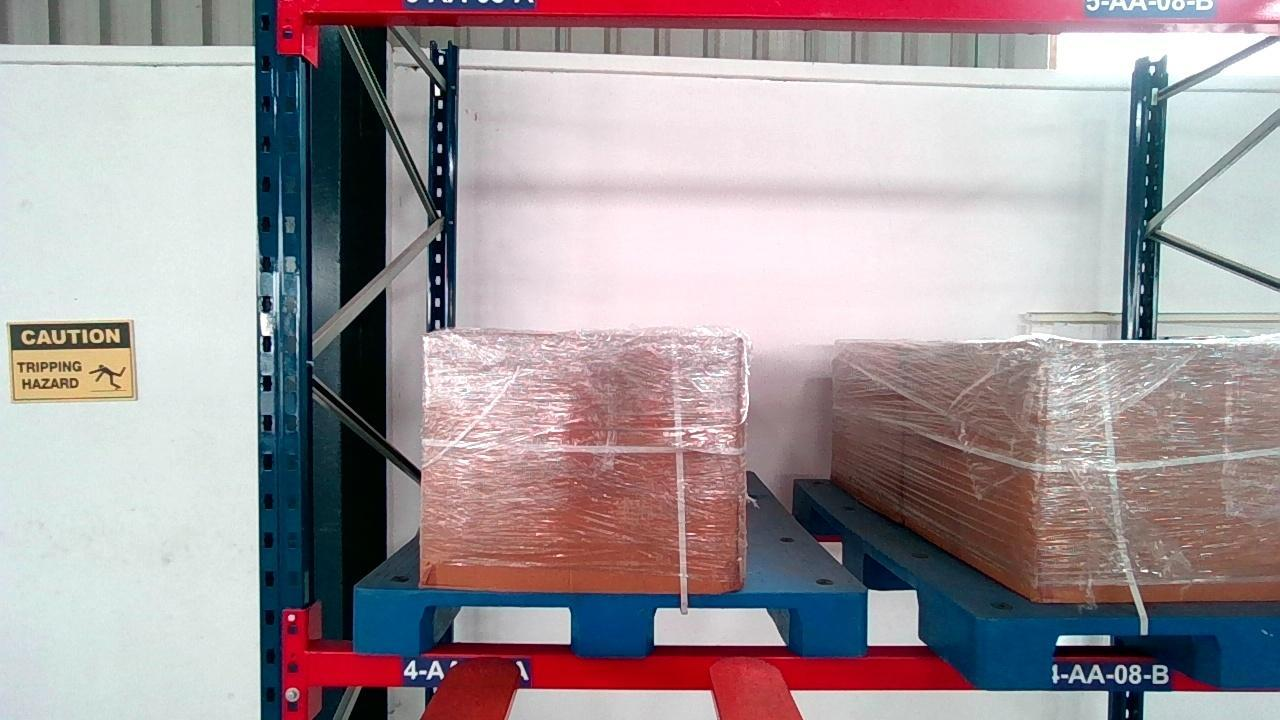h_rack: (307, 649, 1207, 688)
small_pallet: (351, 587, 868, 652), (975, 612, 1279, 687)
